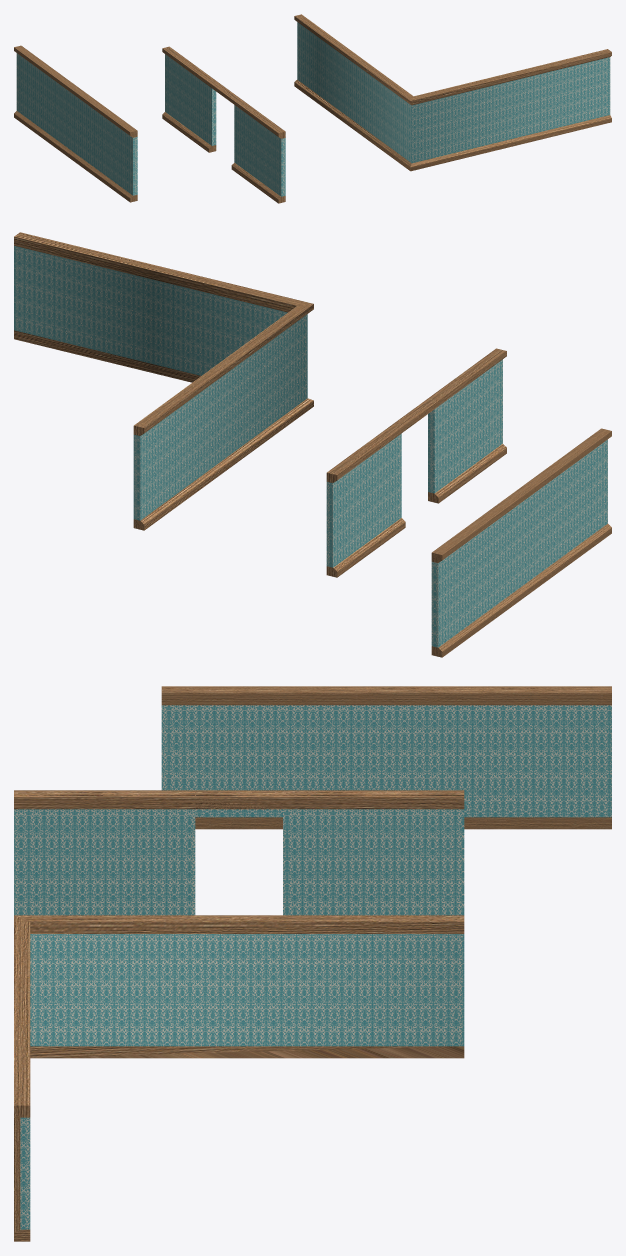
Rendered from wallSet4.FBX.
3 views of the same model, one above another, from view 1: azimuth 30°, elevation 25°; view 2: azimuth 150°, elevation 25°; view 3: azimuth 270°, elevation 25° (orthographic). The views are drawn at different scales.
Visible parts, largest first — view 1: Box002, Box001, Box003; view 2: Box002, Box001, Box003; view 3: Box002, Box001, Box003.
Part boxes in pixels (x1=…): Box002: x1=294, y1=14, x2=611, y2=171; Box001: x1=14, y1=45, x2=137, y2=202; Box003: x1=162, y1=46, x2=285, y2=203; Box002: x1=14, y1=232, x2=313, y2=530; Box001: x1=431, y1=428, x2=611, y2=657; Box003: x1=326, y1=348, x2=506, y2=577; Box002: x1=14, y1=915, x2=464, y2=1241; Box001: x1=161, y1=686, x2=611, y2=829; Box003: x1=14, y1=790, x2=464, y2=915.
Bounding box in the file's own units: 793 × 120 × 478.
1 material, 1 textured.
